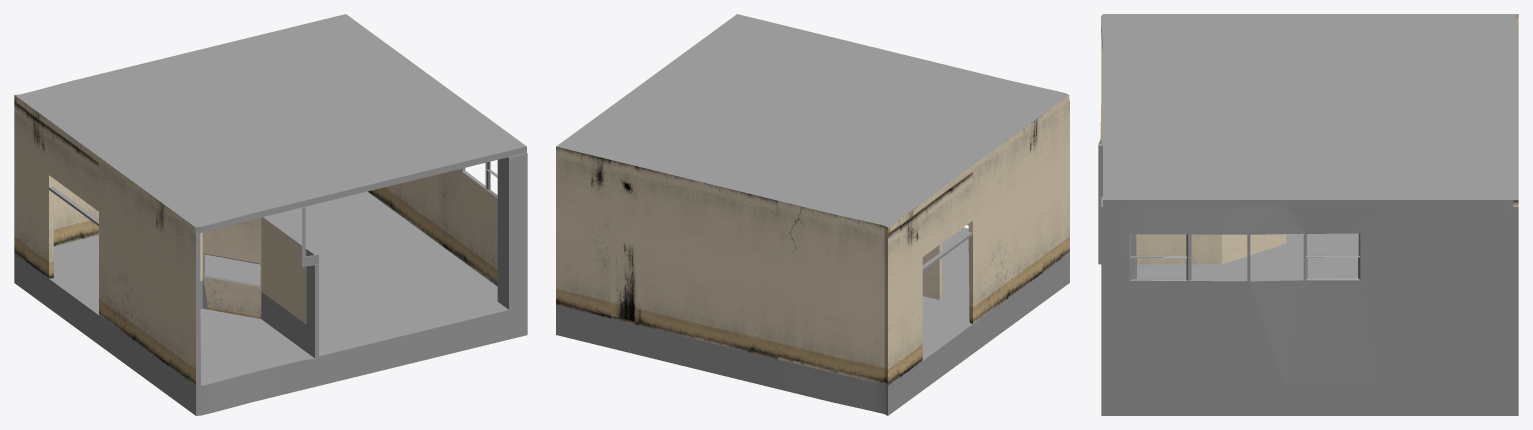
3 views of the same model, side by side, from view 1: azimuth 30°, elevation 25°; view 2: azimuth 150°, elevation 25°; view 3: azimuth 270°, elevation 25° (orthographic). The views are drawn at different scales.
Parts seen in each view (by area): view 1: pasted__lrh_302; view 2: pasted__lrh_302; view 3: pasted__lrh_302.
Part boxes in pixels (box(x1,y1,x2,y2)): pasted__lrh_302: box(14, 14, 527, 415); pasted__lrh_302: box(556, 14, 1069, 415); pasted__lrh_302: box(1098, 14, 1518, 415).
Bounding box in the file's own units: 83.04 × 44.87 × 79.05.
